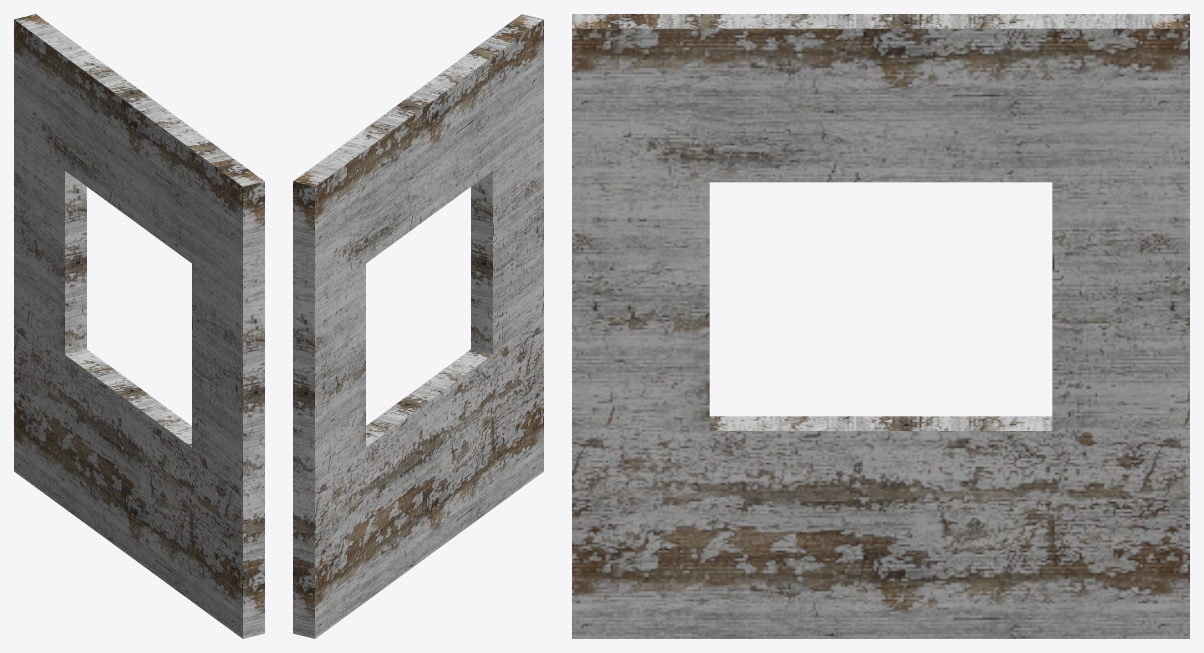
File: soupwindwall026.obj
3 renders of one model, left to right at view 1: azimuth 30°, elevation 25°; view 2: azimuth 150°, elevation 25°; view 3: azimuth 270°, elevation 25°, orthographic. The views are drawn at different scales.
Visible parts, largest first — view 1: soupwindwall026_high_1; view 2: soupwindwall026_high_1; view 3: soupwindwall026_high_1.
Part boxes in pixels (left/top/right/bottom): soupwindwall026_high_1: left=14, top=14, right=264, bottom=638; soupwindwall026_high_1: left=293, top=14, right=543, bottom=638; soupwindwall026_high_1: left=572, top=14, right=1189, bottom=638.
Bounding box in the file's own units: 0.1504 × 2.95 × 2.7.
